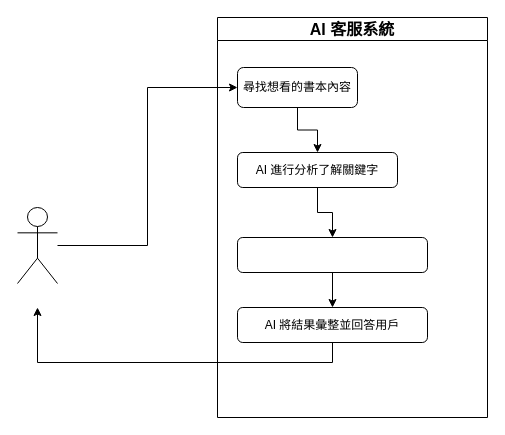
Some shapes in this 505 by 435 pixel diagram are drawn without their labels. Each missing label, with the centre of its shape:
"搜索整個書庫是否有相符的書本" goes at (332,254).
"用戶" goes at (37,245).
